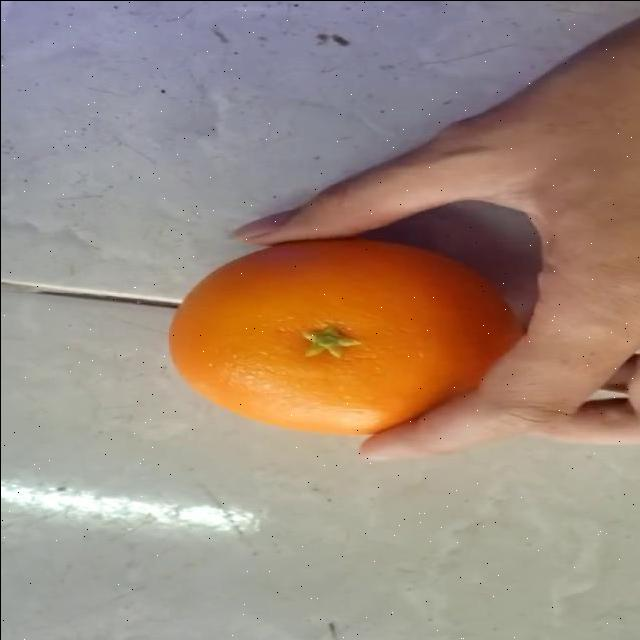Orange: (167, 238, 524, 438)
